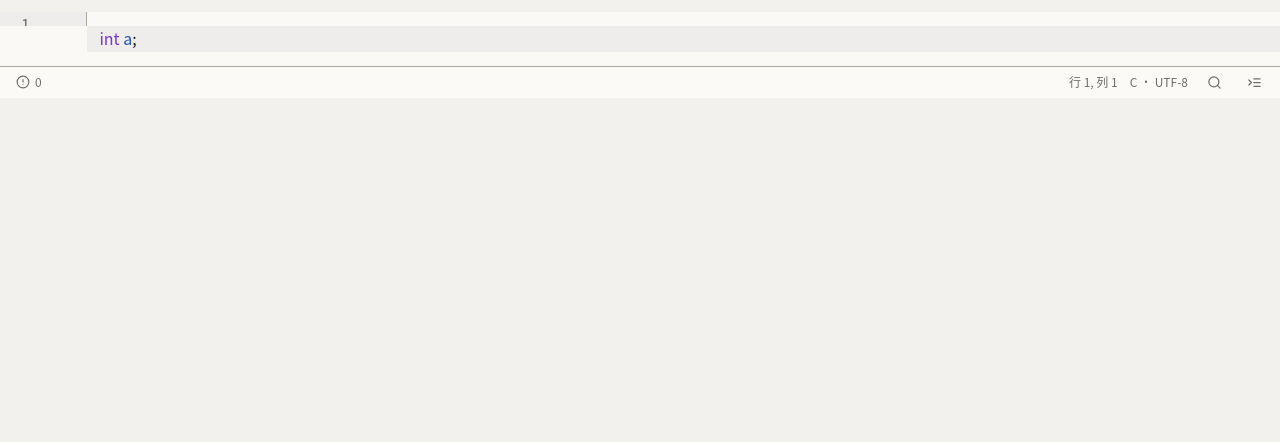
it: C code editor › reports clipboard denial without removing code
Press F10 in the field with class "cm-content", box left=87, top=26, right=1279, bottom=52
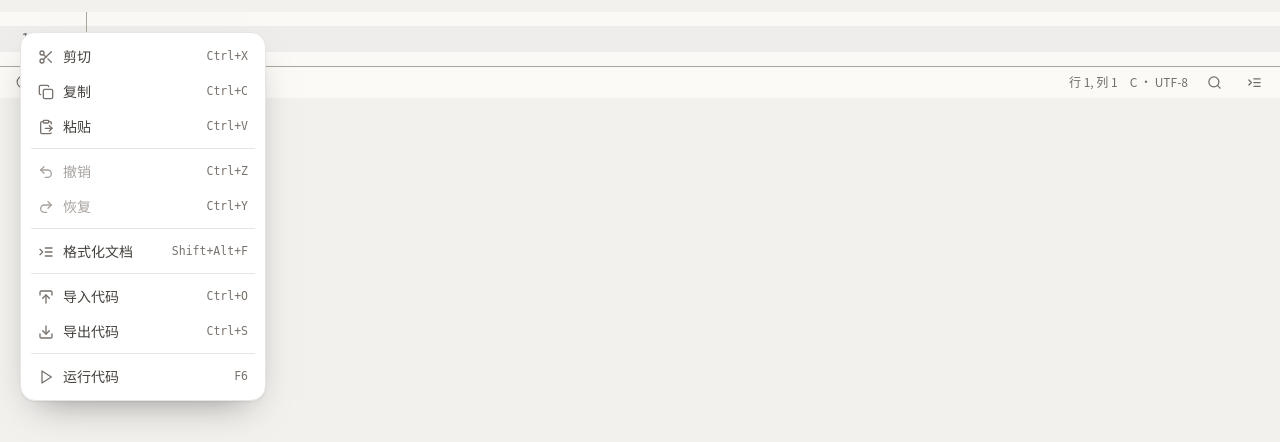
Click the menu item "剪切 Ctrl+X" at (143, 56), box left=27, top=39, right=259, bottom=74
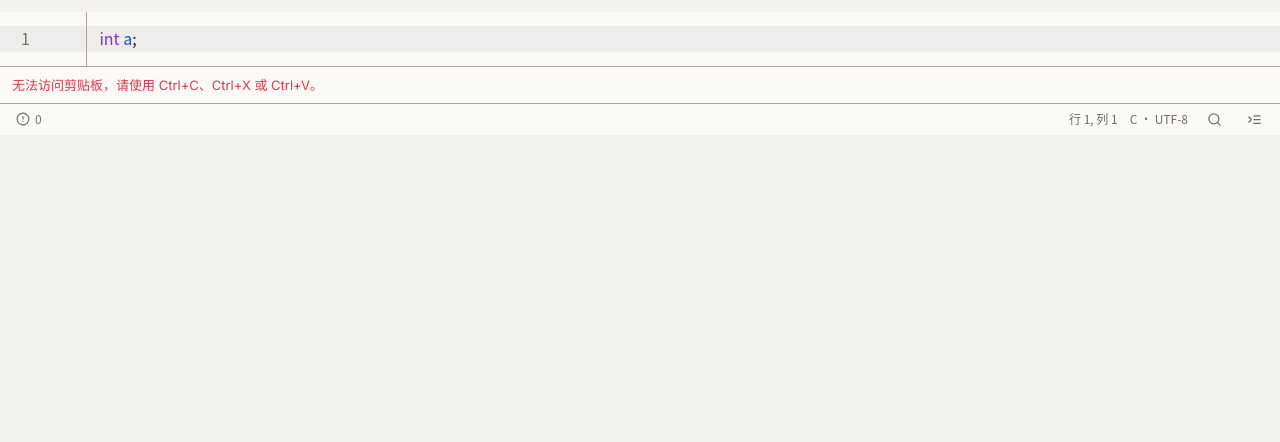
Expected: the text box labelled "int a;" is shown, left=87, top=26, right=1279, bottom=52
Result: the message "无法访问剪贴板，请使用 Ctrl+C、Ctrl+X 或 Ctrl+V。" is shown at left=0, top=66, right=1279, bottom=103
